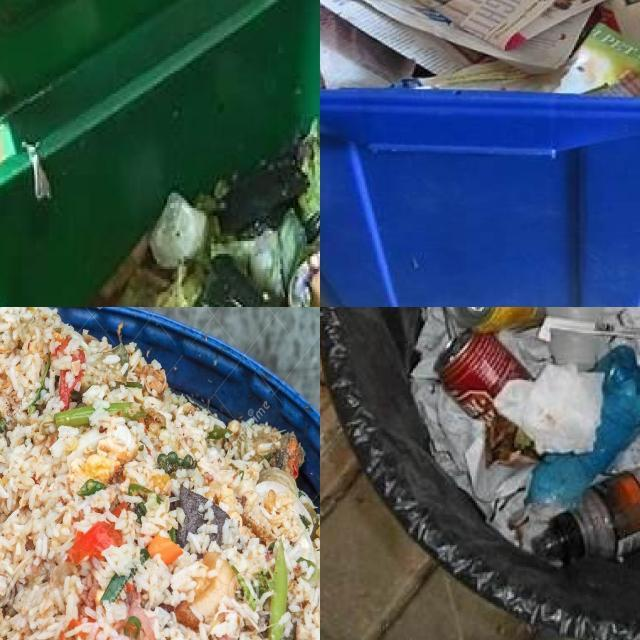Garbage: (0, 307, 320, 640), (411, 307, 640, 565), (87, 118, 320, 307), (320, 0, 640, 97)
Plastic_Container: (550, 329, 604, 368)
Plastic_bottle: (529, 346, 640, 506), (532, 470, 640, 565)
can: (435, 330, 537, 466), (446, 307, 543, 332)
